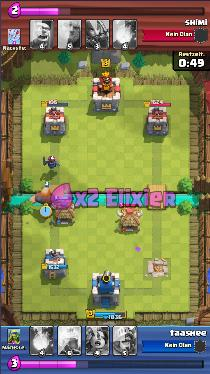ally_giant: (30, 187, 60, 207)
ally_goblin_hut: (48, 200, 79, 226)
enemy_goblin_hut: (115, 208, 144, 234)
enemy_mini_pekka: (42, 156, 60, 170)
